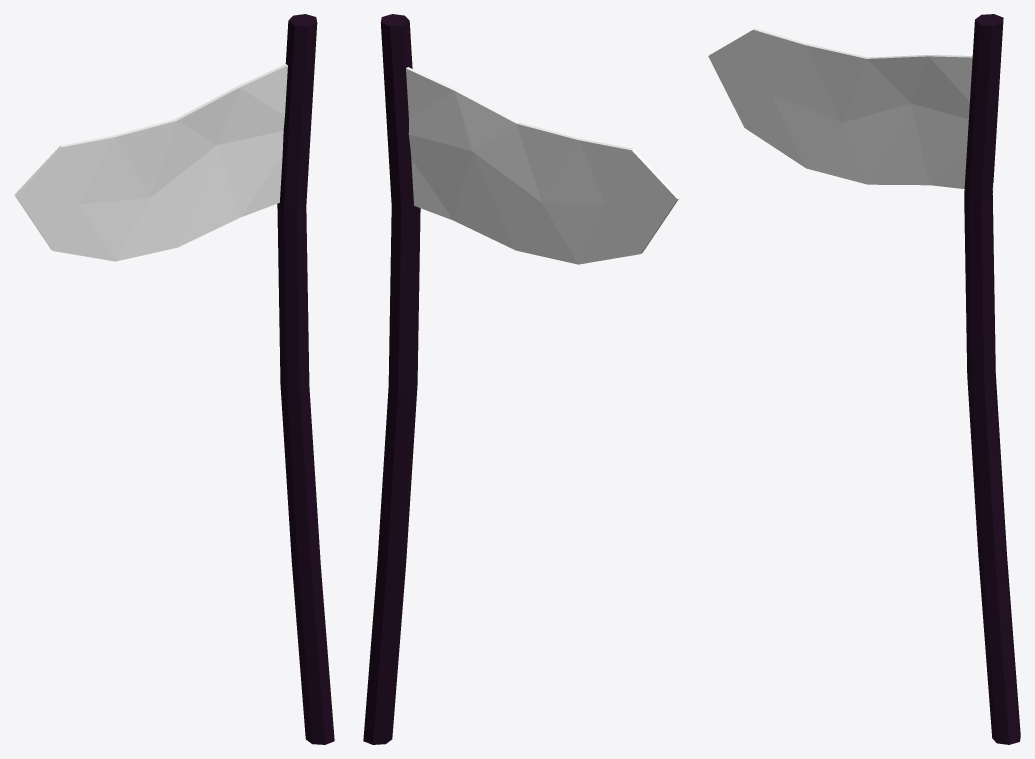
File: prop_flagpole.FBX
The picture shows the model from 3 angles, left to right: view 1: azimuth 30°, elevation 25°; view 2: azimuth 150°, elevation 25°; view 3: azimuth 330°, elevation 25°; orthographic projection.
Visible parts, largest first — view 1: flag; view 2: flag; view 3: flag.
Part boxes in pixels (x1,y1,x2,y2): flag: (14, 14, 334, 744); flag: (363, 14, 679, 744); flag: (708, 14, 1020, 744).
Size of the model in its own units: 4.03 by 8.81 by 0.3234.
